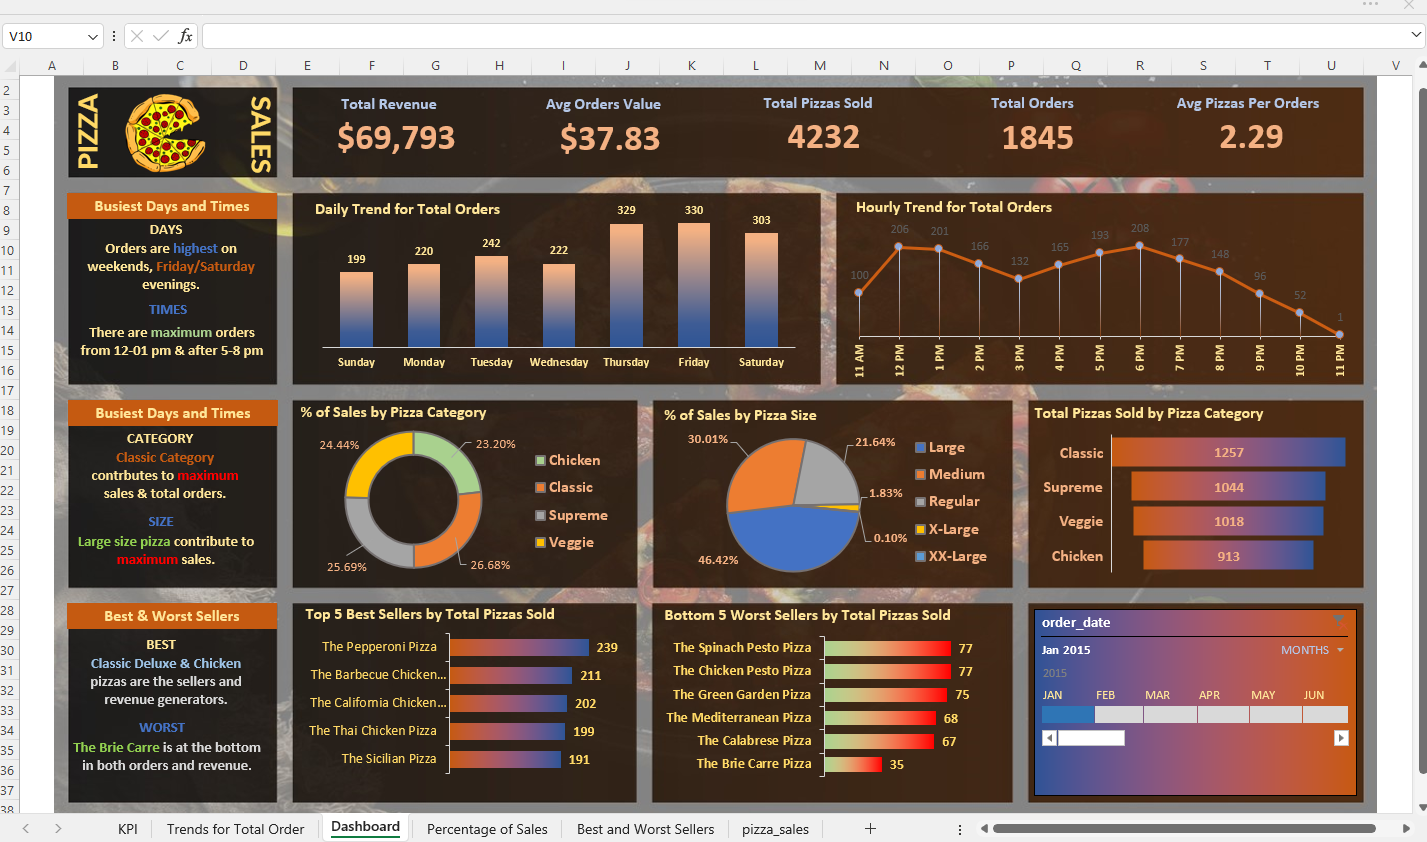

The page's visual inventory and layout, read from the dashboard file:
{"tool":"powerbi","page":{"name":"Home","canvas":[1500,820],"ordinal":0},"visuals":[{"type":"shape","box":[0,72.9,260,747.1],"z":0},{"type":"cardVisual","fields":{"Data":["pizza_sales.Total Revenue","pizza_sales.Avg Order Value","pizza_sales.Total pizzas Sold","pizza_sales.Total Orders","pizza_sales.Avg Pizzas Per Orders"]},"box":[260,77.1,1230,150],"z":1000},{"type":"shape","box":[0,0,1500,72.9],"z":2000},{"type":"textbox","box":[7.1,225.7,242.9,40],"z":3000},{"type":"textbox","box":[597.1,0,305.7,48.6],"z":4000},{"type":"textbox","box":[674.3,35.7,150,41.4],"z":5000},{"type":"image","box":[547.1,4.3,65.7,61.4],"z":6000},{"type":"shape","box":[260,230,564.3,310],"z":7000},{"type":"columnChart","title":"Daily Trend for Total Orders","fields":{"Category":["pizza_sales.Order Day"],"Y":["pizza_sales.Total Orders"]},"box":[282.9,245.7,518.6,278.6],"z":8000},{"type":"shape","box":[824.3,227.1,665.7,310],"z":9000},{"type":"areaChart","title":"Monthly Trend for Total Orders","fields":{"Category":["pizza_sales.Order Month"],"Y":["pizza_sales.Total Orders"]},"box":[844.3,245.7,625.7,278.6],"z":10000},{"type":"shape","box":[260,532.9,400,287.1],"z":11000},{"type":"shape","box":[675.7,532.9,400,287.1],"z":12000},{"type":"shape","box":[1090,532.9,400,287.1],"z":13000},{"type":"donutChart","title":"% of Sales by Pizza Category","fields":{"Category":["pizza_sales.pizza_category"],"Y":["pizza_sales.Total Revenue"]},"box":[282.9,550,354.3,248.6],"z":14000},{"type":"donutChart","title":"% of Sales by Pizza Size","fields":{"Y":["pizza_sales.Total Revenue"],"Category":["pizza_sales.pizza_size"]},"box":[698.6,552.9,354.3,248.6],"z":15000},{"type":"funnel","title":"Total pizzas Sold by Pizza Category","fields":{"Category":["pizza_sales.pizza_category"],"Y":["pizza_sales.Total pizzas Sold"]},"box":[1114.3,550,355.7,248.6],"z":16000},{"type":"textbox","box":[7.1,265.7,242.9,247.1],"z":17000},{"type":"textbox","box":[5.7,518.6,244.3,40],"z":18000},{"type":"textbox","box":[5.7,552.9,244.3,248.6],"z":19000},{"type":"slicer","fields":{"Values":["pizza_sales.pizza_category"]},"box":[928.6,4.3,228.6,61.4],"z":20000},{"type":"slicer","fields":{"Values":["pizza_sales.order_date"]},"box":[1157.1,0,222.9,72.9],"z":21000},{"type":"pageNavigator","box":[7.1,114.3,244.3,50],"z":21001},{"type":"pageNavigator","box":[7.1,168.6,244.3,50],"z":21002},{"type":"image","box":[207.1,117.1,47.1,45.7],"z":21003},{"type":"image","box":[11.4,111.4,44.3,50],"z":21004},{"type":"image","box":[10,167.1,48.6,48.6],"z":21005}]}

Visuals, with their boxes on the page's 1500x820 design canvas (x1, y1, x2, y2). These are canvas units, not pixel positions in the 1427x842 screenshot, which may show the page scaled, cropped or inside an application window:
shape: l=0, t=73, r=260, b=820
cardVisual - pizza_sales.Total Revenue x pizza_sales.Avg Order Value: l=260, t=77, r=1490, b=227
shape: l=0, t=0, r=1500, b=73
textbox: l=7, t=226, r=250, b=266
textbox: l=597, t=0, r=903, b=49
textbox: l=674, t=36, r=824, b=77
image: l=547, t=4, r=613, b=66
shape: l=260, t=230, r=824, b=540
"Daily Trend for Total Orders" columnChart: l=283, t=246, r=802, b=524
shape: l=824, t=227, r=1490, b=537
"Monthly Trend for Total Orders" areaChart: l=844, t=246, r=1470, b=524
shape: l=260, t=533, r=660, b=820
shape: l=676, t=533, r=1076, b=820
shape: l=1090, t=533, r=1490, b=820
"% of Sales by Pizza Category" donutChart: l=283, t=550, r=637, b=799
"% of Sales by Pizza Size" donutChart: l=699, t=553, r=1053, b=802
"Total pizzas Sold by Pizza Category" funnel: l=1114, t=550, r=1470, b=799
textbox: l=7, t=266, r=250, b=513
textbox: l=6, t=519, r=250, b=559
textbox: l=6, t=553, r=250, b=802
slicer - pizza_sales.pizza_category: l=929, t=4, r=1157, b=66
slicer - pizza_sales.order_date: l=1157, t=0, r=1380, b=73
pageNavigator: l=7, t=114, r=251, b=164
pageNavigator: l=7, t=169, r=251, b=219
image: l=207, t=117, r=254, b=163
image: l=11, t=111, r=56, b=161
image: l=10, t=167, r=59, b=216
